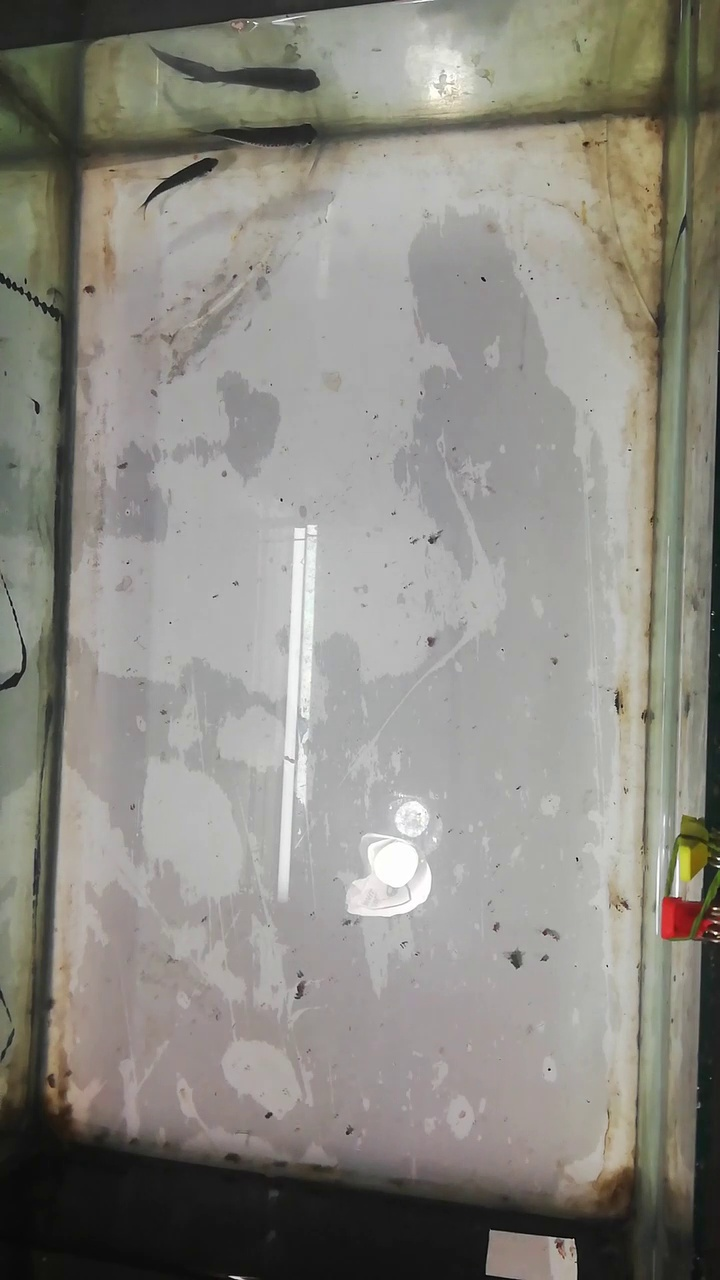fish1: (205, 122, 317, 149)
fish2: (144, 158, 224, 203)
